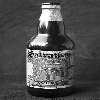beer: (26, 2, 77, 97)
